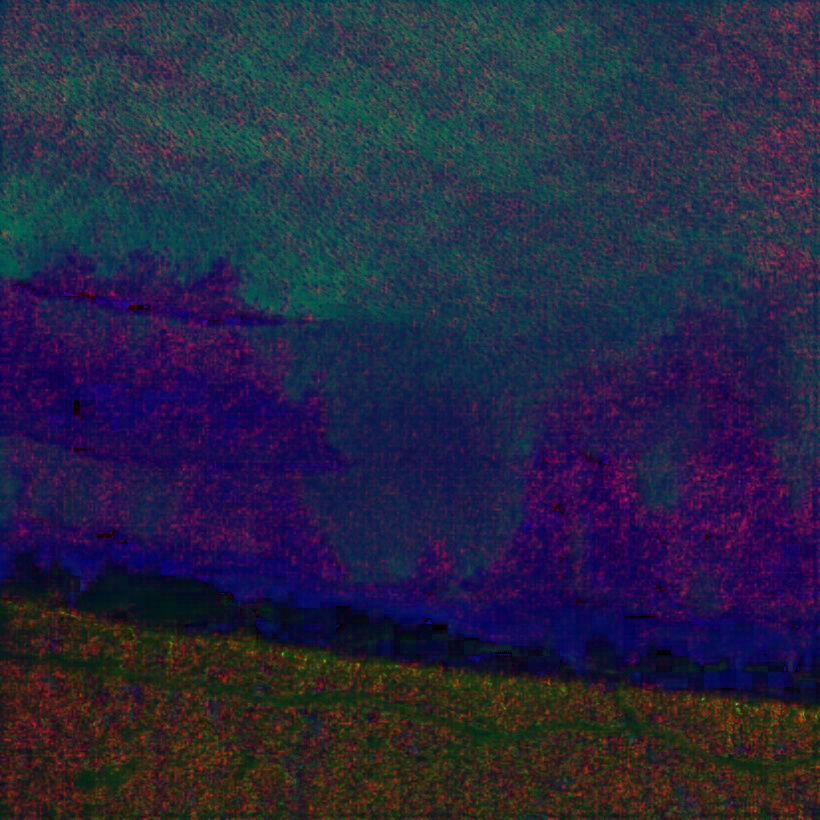rip_current: (250, 183, 561, 610)
